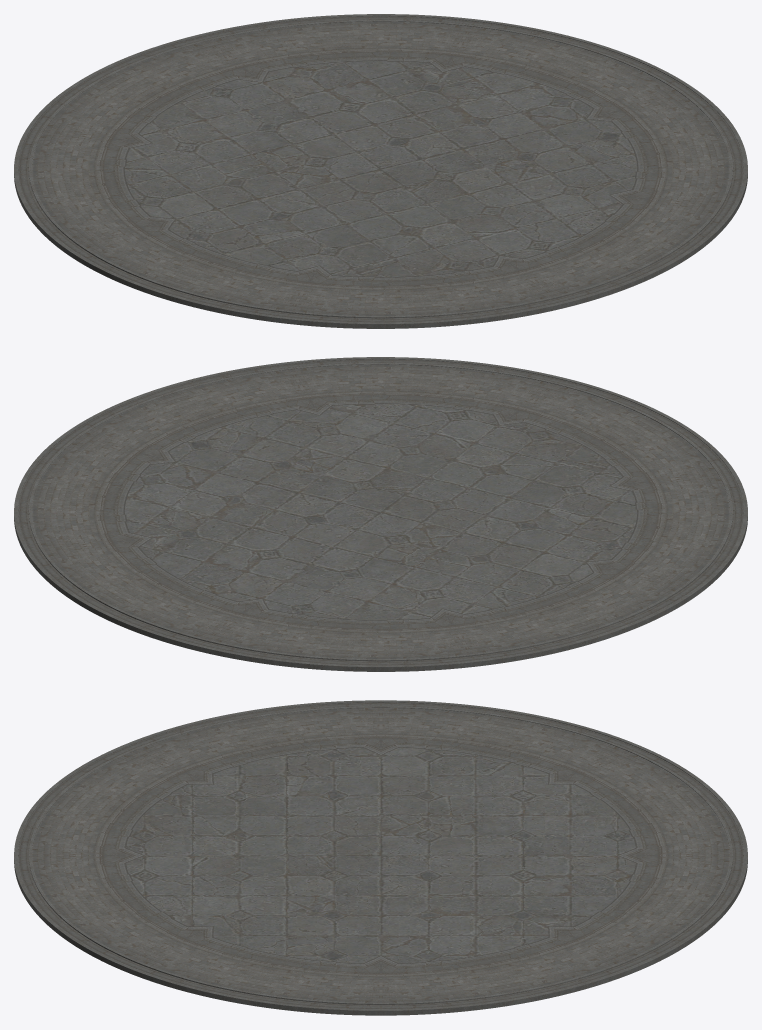
The model's file is bg_rad_kamen_floor12a_sm.obj.
The picture shows the model from 3 angles, top to bottom: view 1: azimuth 30°, elevation 25°; view 2: azimuth 150°, elevation 25°; view 3: azimuth 270°, elevation 25°; orthographic projection.
Visible parts, largest first — view 1: bg_rad_kamen_floor12a_sm_1, bg_rad_kamen_floor12a_sm_0; view 2: bg_rad_kamen_floor12a_sm_1, bg_rad_kamen_floor12a_sm_0; view 3: bg_rad_kamen_floor12a_sm_1, bg_rad_kamen_floor12a_sm_0.
Part boxes in pixels (left/top/right/bottom): bg_rad_kamen_floor12a_sm_1: left=14, top=14, right=747, bottom=328; bg_rad_kamen_floor12a_sm_0: left=124, top=61, right=637, bottom=277; bg_rad_kamen_floor12a_sm_1: left=14, top=357, right=747, bottom=671; bg_rad_kamen_floor12a_sm_0: left=124, top=404, right=637, bottom=620; bg_rad_kamen_floor12a_sm_1: left=14, top=700, right=747, bottom=1015; bg_rad_kamen_floor12a_sm_0: left=126, top=747, right=635, bottom=963.
Size of the model in its own units: 24.79 by 0.2 by 24.77.
2 materials, 2 textured.
